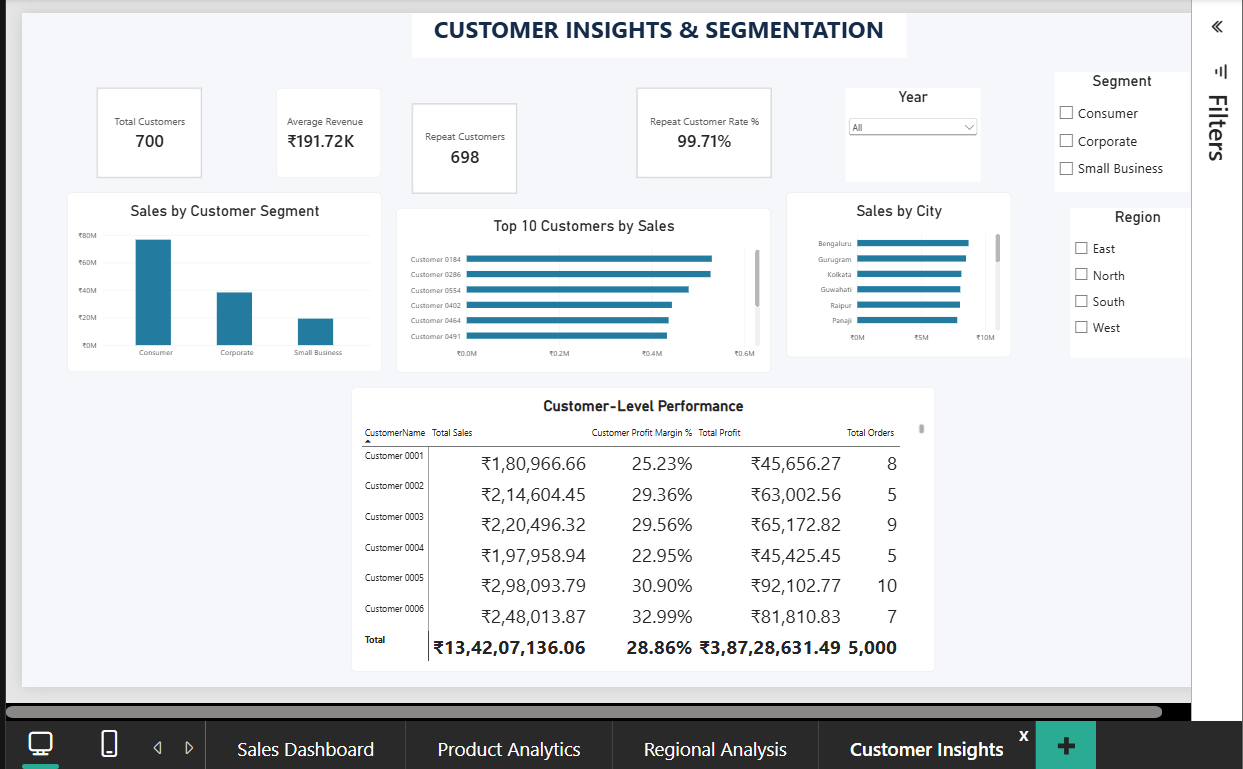

What the dashboard file says about the page in this screenshot:
{"tool":"powerbi","page":{"name":"Customer Insights","canvas":[1920,1080],"ordinal":3},"visuals":[{"type":"textbox","box":[624,0,792,72],"z":0},{"type":"cardVisual","title":"Total Customers","fields":{"Data":["Measures (2).Total Customers"]},"box":[120,120,168,144],"z":1000},{"type":"cardVisual","fields":{"Data":["Measures (2).Average Revenue per Customer"]},"box":[408,120,168,144],"z":2000},{"type":"cardVisual","fields":{"Data":["Measures (2).Repeat Customers"]},"box":[624,144,168,144],"z":3000},{"type":"cardVisual","fields":{"Data":["Measures (2).Repeat Customer Rate %"]},"box":[984,120,216,144],"z":4000},{"type":"clusteredColumnChart","title":"Sales by Customer Segment","fields":{"Category":["DimCustomers.Segment"],"Y":["Measures (2).Total Sales"]},"box":[72,288,504,288],"z":5000},{"type":"clusteredBarChart","title":"Top 10 Customers by Sales","fields":{"Category":["DimCustomers.CustomerName"],"Y":["Measures (2).Total Sales"]},"box":[600,312,600,264],"z":6000},{"type":"clusteredBarChart","title":"Sales by City","fields":{"Category":["DimCustomers.City"],"Y":["Measures (2).Total Sales"]},"box":[1224,288,360,264],"z":7000},{"type":"pivotTable","title":"Customer-Level Performance","fields":{"Rows":["DimCustomers.CustomerName"],"Values":["Measures (2).Total Sales","Measures (2).Customer Profit Margin %","Measures (2).Total Profit","Measures (2).Total Orders"]},"box":[528,600,936,456],"z":8000},{"type":"slicer","title":"Year","fields":{"Values":["DimDate.Year"]},"box":[1320,120,216,150],"z":9000},{"type":"slicer","title":"Segment","fields":{"Values":["DimCustomers.Segment"]},"box":[1656,96,216,192],"z":10000},{"type":"slicer","title":"Region","fields":{"Values":["DimCustomers.Region"]},"box":[1680,312,216,240],"z":11000}]}

Visuals, with their boxes on the page's 1920x1080 design canvas (x1, y1, x2, y2). These are canvas units, not pixel positions in the 1243x769 screenshot, which may show the page scaled, cropped or inside an application window:
textbox: <box>624,0,1416,72</box>
"Total Customers" cardVisual: <box>120,120,288,264</box>
cardVisual - Measures (2).Average Revenue per Customer: <box>408,120,576,264</box>
cardVisual - Measures (2).Repeat Customers: <box>624,144,792,288</box>
cardVisual - Measures (2).Repeat Customer Rate %: <box>984,120,1200,264</box>
"Sales by Customer Segment" clusteredColumnChart: <box>72,288,576,576</box>
"Top 10 Customers by Sales" clusteredBarChart: <box>600,312,1200,576</box>
"Sales by City" clusteredBarChart: <box>1224,288,1584,552</box>
"Customer-Level Performance" pivotTable: <box>528,600,1464,1056</box>
"Year" slicer: <box>1320,120,1536,270</box>
"Segment" slicer: <box>1656,96,1872,288</box>
"Region" slicer: <box>1680,312,1896,552</box>
